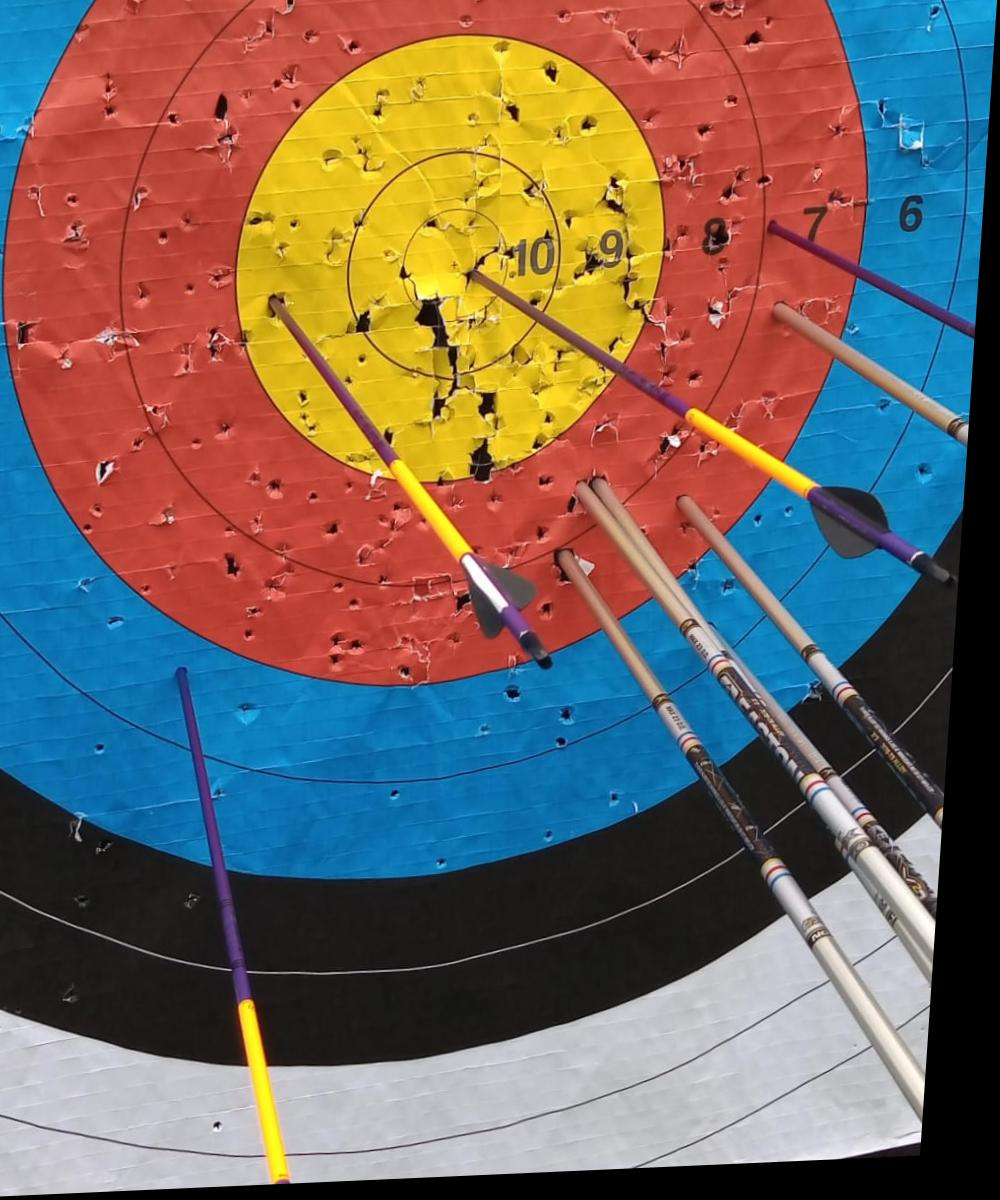10-Ring: (306, 116, 610, 421)
7-Ring: (7, 0, 868, 690)
8-Ring: (124, 0, 769, 590)
Arrow: (555, 555, 960, 1129), (572, 485, 967, 974), (590, 481, 965, 995), (445, 274, 982, 621), (226, 298, 594, 694), (677, 500, 973, 842), (699, 625, 967, 939), (176, 669, 308, 1191), (771, 307, 986, 457), (769, 228, 986, 349)
